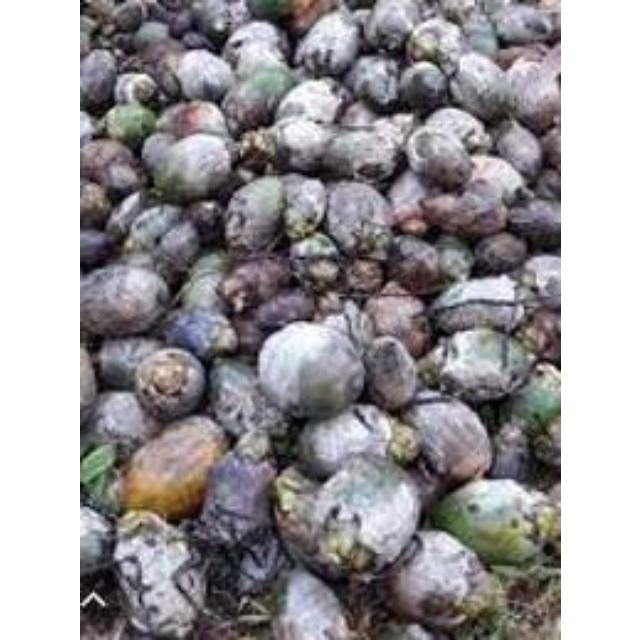damaged: (303, 455, 419, 573), (432, 476, 556, 570), (110, 514, 204, 636), (120, 415, 226, 521), (380, 531, 490, 627), (400, 394, 490, 488), (268, 327, 368, 409), (194, 450, 276, 548), (429, 329, 531, 403), (293, 404, 392, 480), (272, 468, 342, 572), (79, 264, 169, 338), (132, 346, 208, 424), (148, 134, 234, 202), (428, 276, 524, 336), (272, 568, 348, 640), (222, 173, 288, 254), (322, 180, 388, 256), (221, 66, 293, 132), (318, 125, 398, 183), (445, 52, 513, 120), (404, 124, 472, 190), (360, 290, 426, 358), (502, 55, 560, 132), (360, 335, 418, 411), (292, 10, 360, 74), (208, 359, 266, 433), (266, 114, 336, 174), (86, 389, 152, 451), (128, 34, 190, 100), (219, 254, 289, 312), (160, 308, 233, 362), (95, 336, 165, 390), (385, 234, 441, 294), (288, 232, 344, 292), (121, 204, 182, 258), (280, 174, 328, 240), (275, 78, 343, 124), (150, 220, 202, 280), (154, 99, 228, 141), (172, 49, 230, 102), (468, 154, 526, 206), (347, 54, 399, 110), (494, 120, 542, 180), (448, 193, 508, 241), (419, 106, 483, 150), (80, 136, 134, 188), (396, 60, 448, 114), (364, 0, 418, 50), (222, 20, 286, 60), (492, 4, 554, 44), (506, 197, 558, 243), (386, 169, 428, 225), (518, 253, 558, 311), (179, 266, 227, 314), (104, 101, 156, 145), (79, 50, 117, 110), (474, 231, 526, 273), (191, 1, 237, 40), (112, 72, 158, 105), (79, 226, 115, 268), (80, 180, 110, 224)
